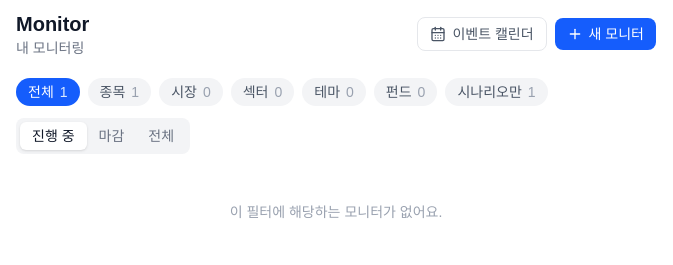
Test: MonitorListPage 상태 세그먼트 › 동결 카드는 live latest_score가 아닌 closure_snapshot 동결값을 렌더한다 (P1.5)
The width and height of the screenshot is (673, 265).
Click the button with test id "status-seg-closed" at {"x": 111, "y": 136}, box [86,122,136,150]
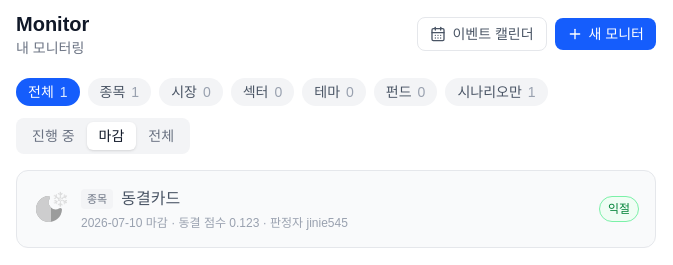
Expected: the text with test id "monitor-card-frozen-meta" does not show "0.990", [81,216,348,230]
Expected: the heading "동결카드" is shown, [121,187,180,211]
Expected: the text with test id "monitor-card-frozen-meta" shows "동결 점수 0.123", [168,216,259,230]
